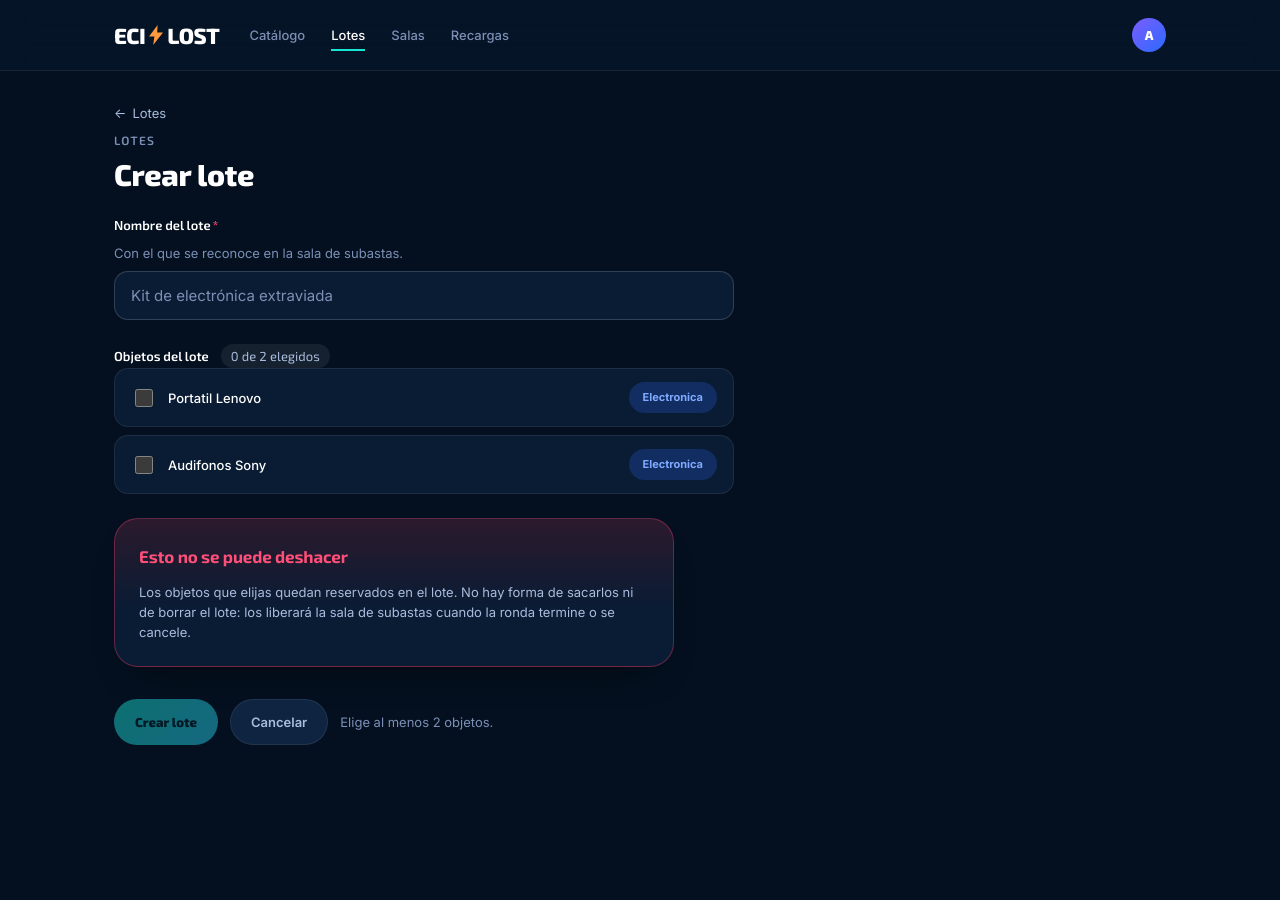
Lotes › un 409 significa que no se creo nada, y asi se cuenta
Type "Kit de electrónica" into the field labelled "Nombre del lote*" at (424, 296), box [114,271,734,320]
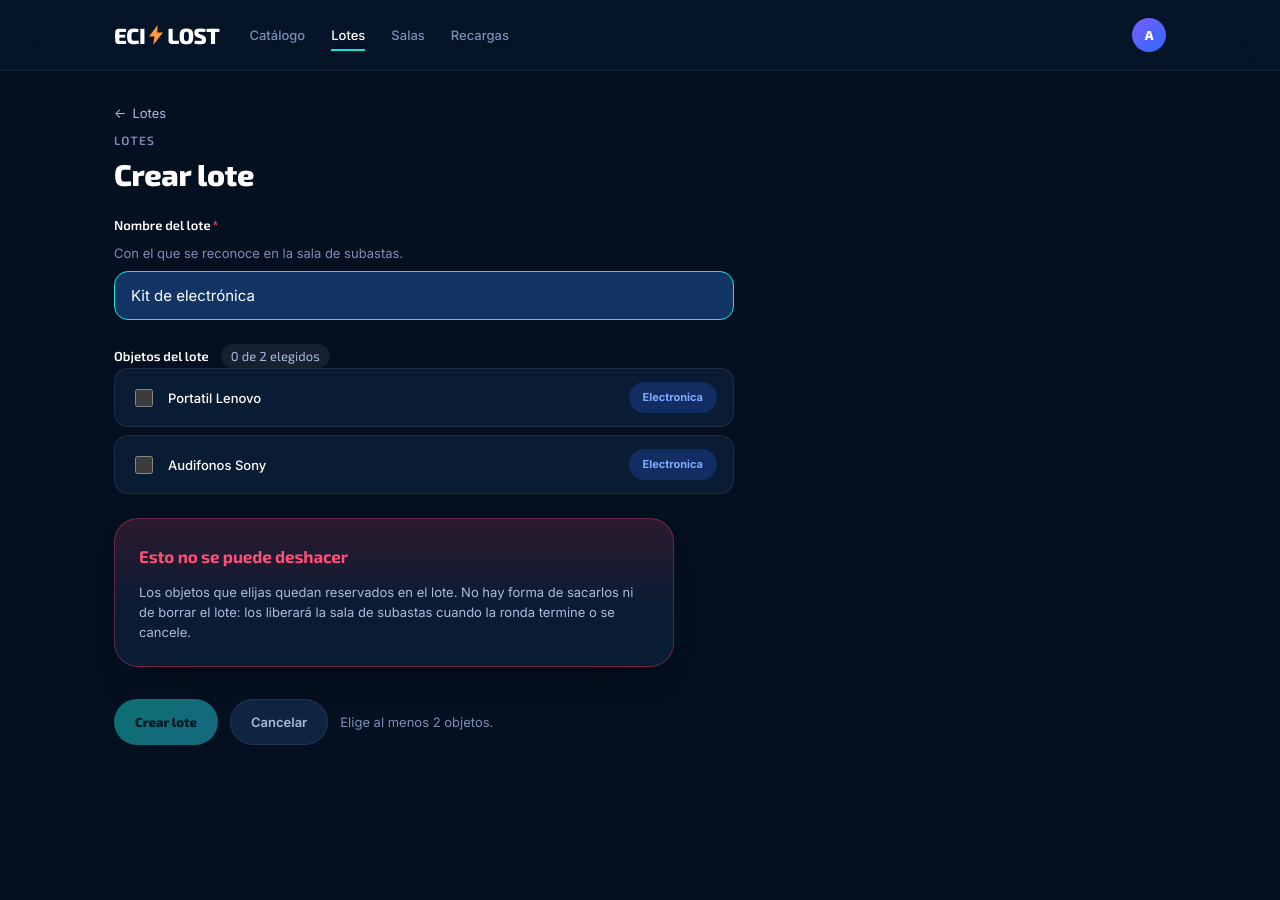
Click the checkbox labelled "Portatil Lenovo Electronica" at (144, 398), box [135,389,153,407]
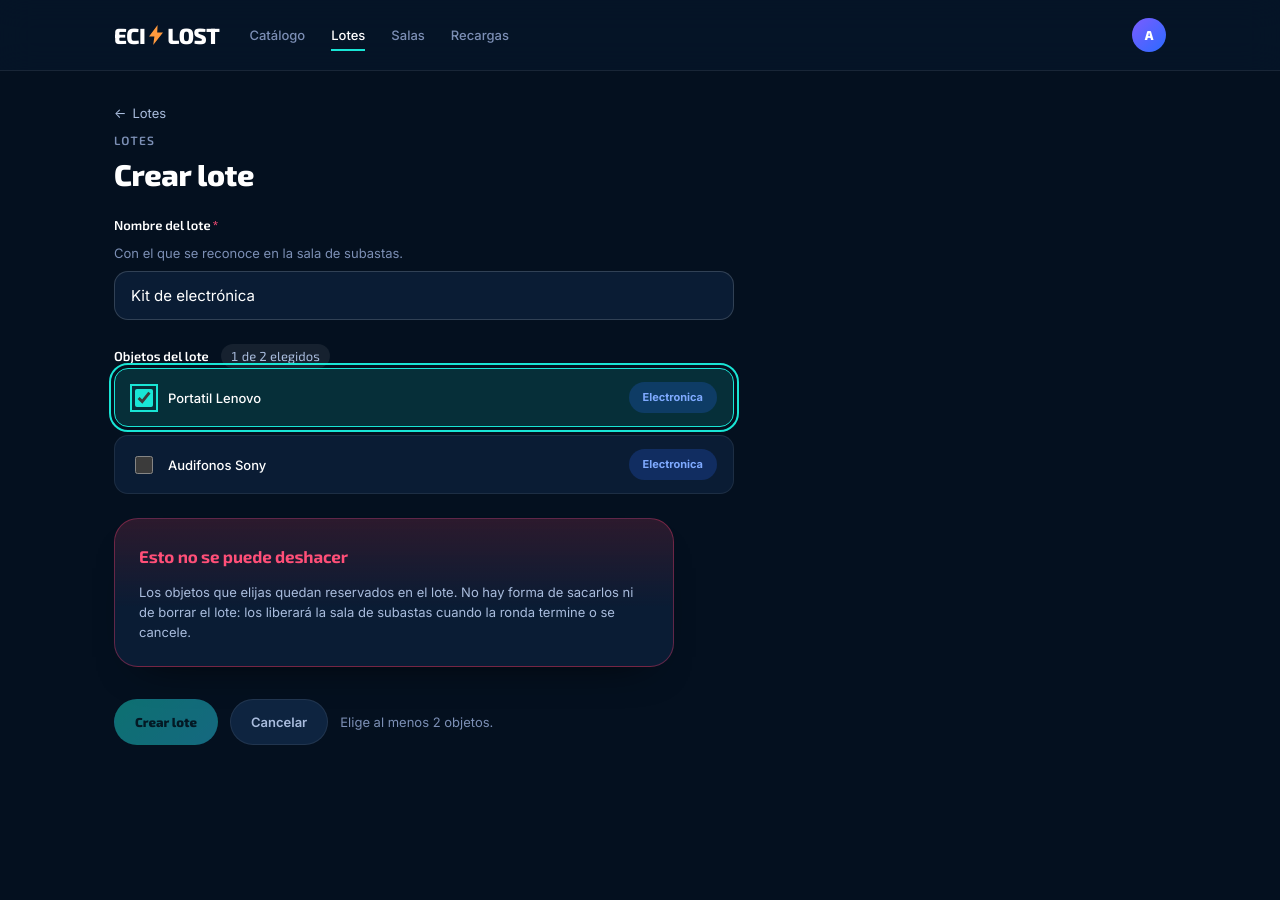
Click the checkbox labelled "Audifonos Sony Electronica" at (144, 465), box [135,456,153,474]
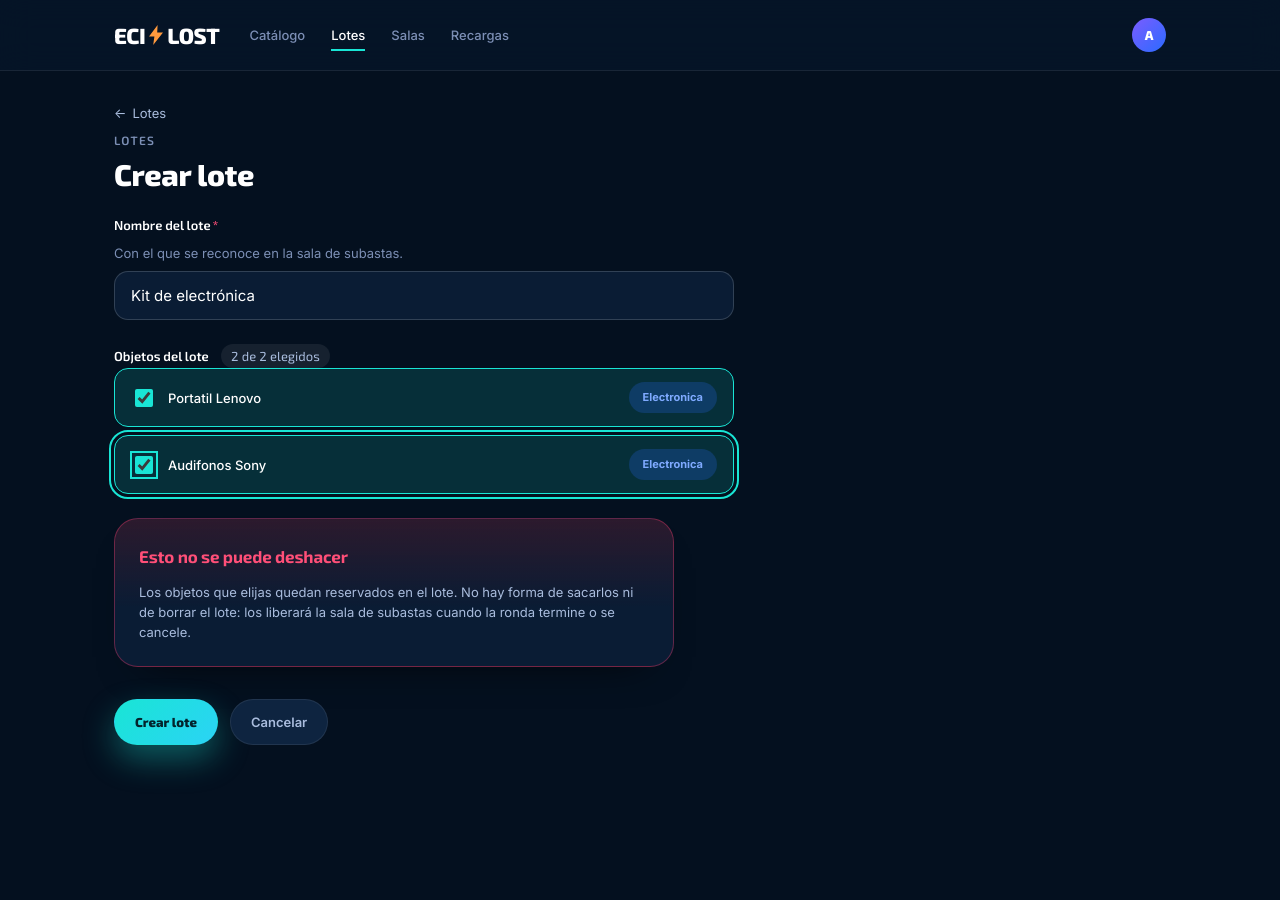
Click the button "Crear lote" at (166, 722), box [114,699,218,745]
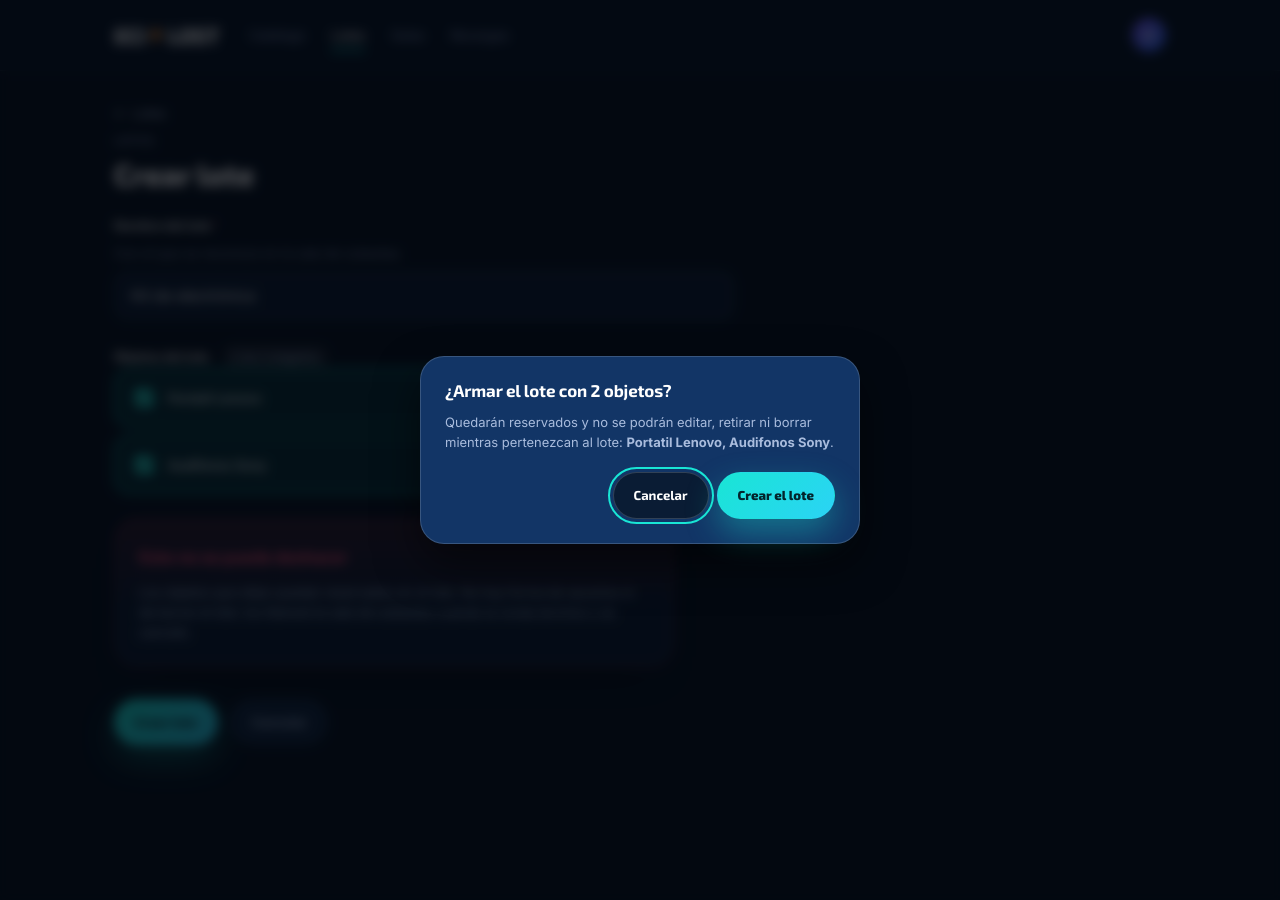
Click the button "Crear el lote" at (776, 495), box [716,472,835,518]
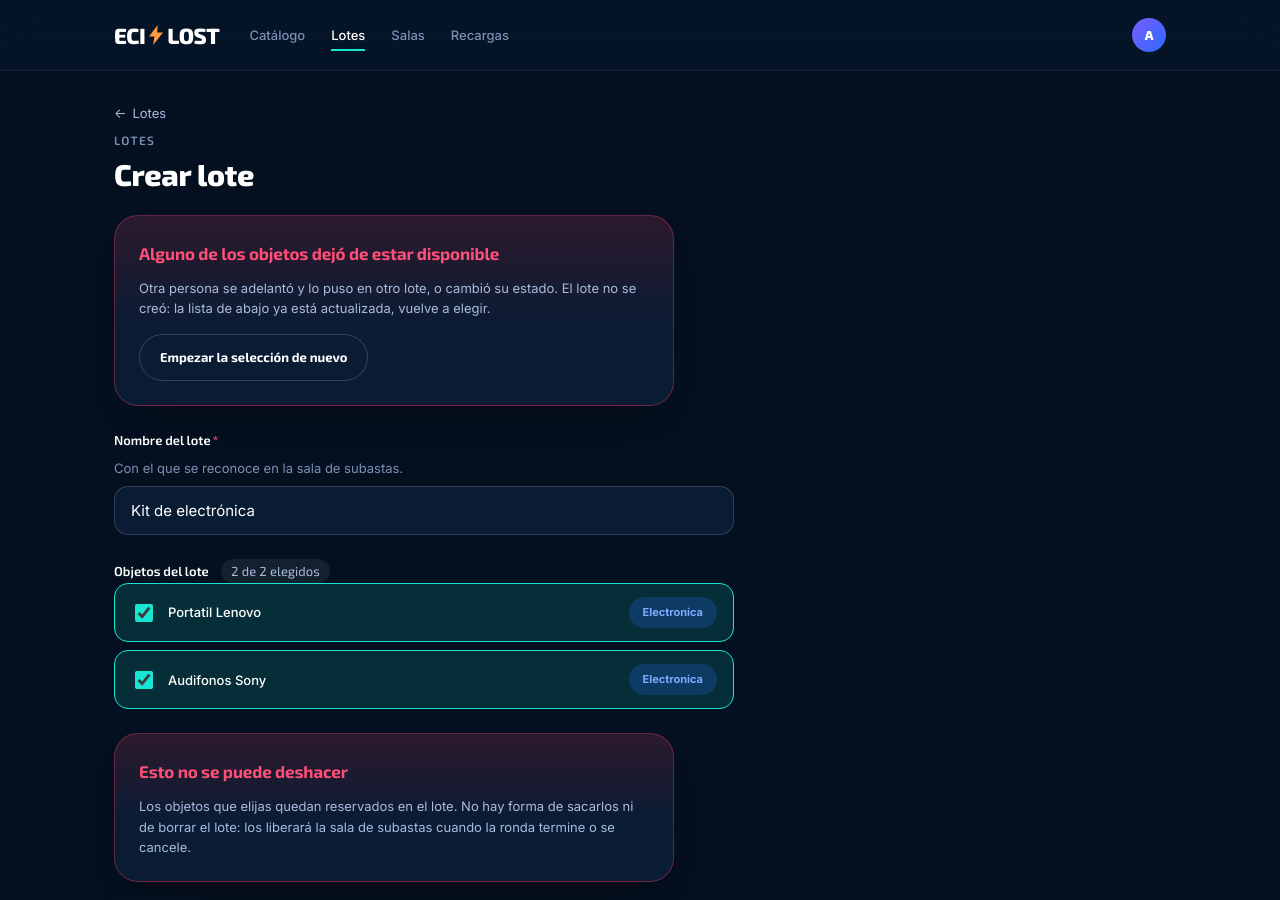
Now the message shows "dejó de estar disponible", box [139,243,499,263]
Now the message shows "el lote no se creó", box [139,280,636,316]
